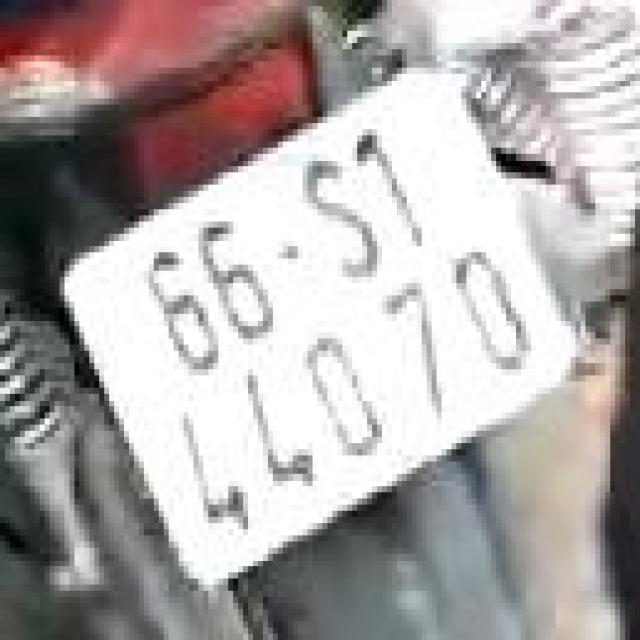0: (432, 226, 557, 404), (282, 309, 406, 481)
1: (339, 104, 456, 273)
4: (159, 389, 277, 567), (219, 348, 336, 513)
6: (122, 226, 237, 400), (182, 192, 295, 360)
7: (367, 265, 480, 439)
S: (283, 137, 402, 306)
